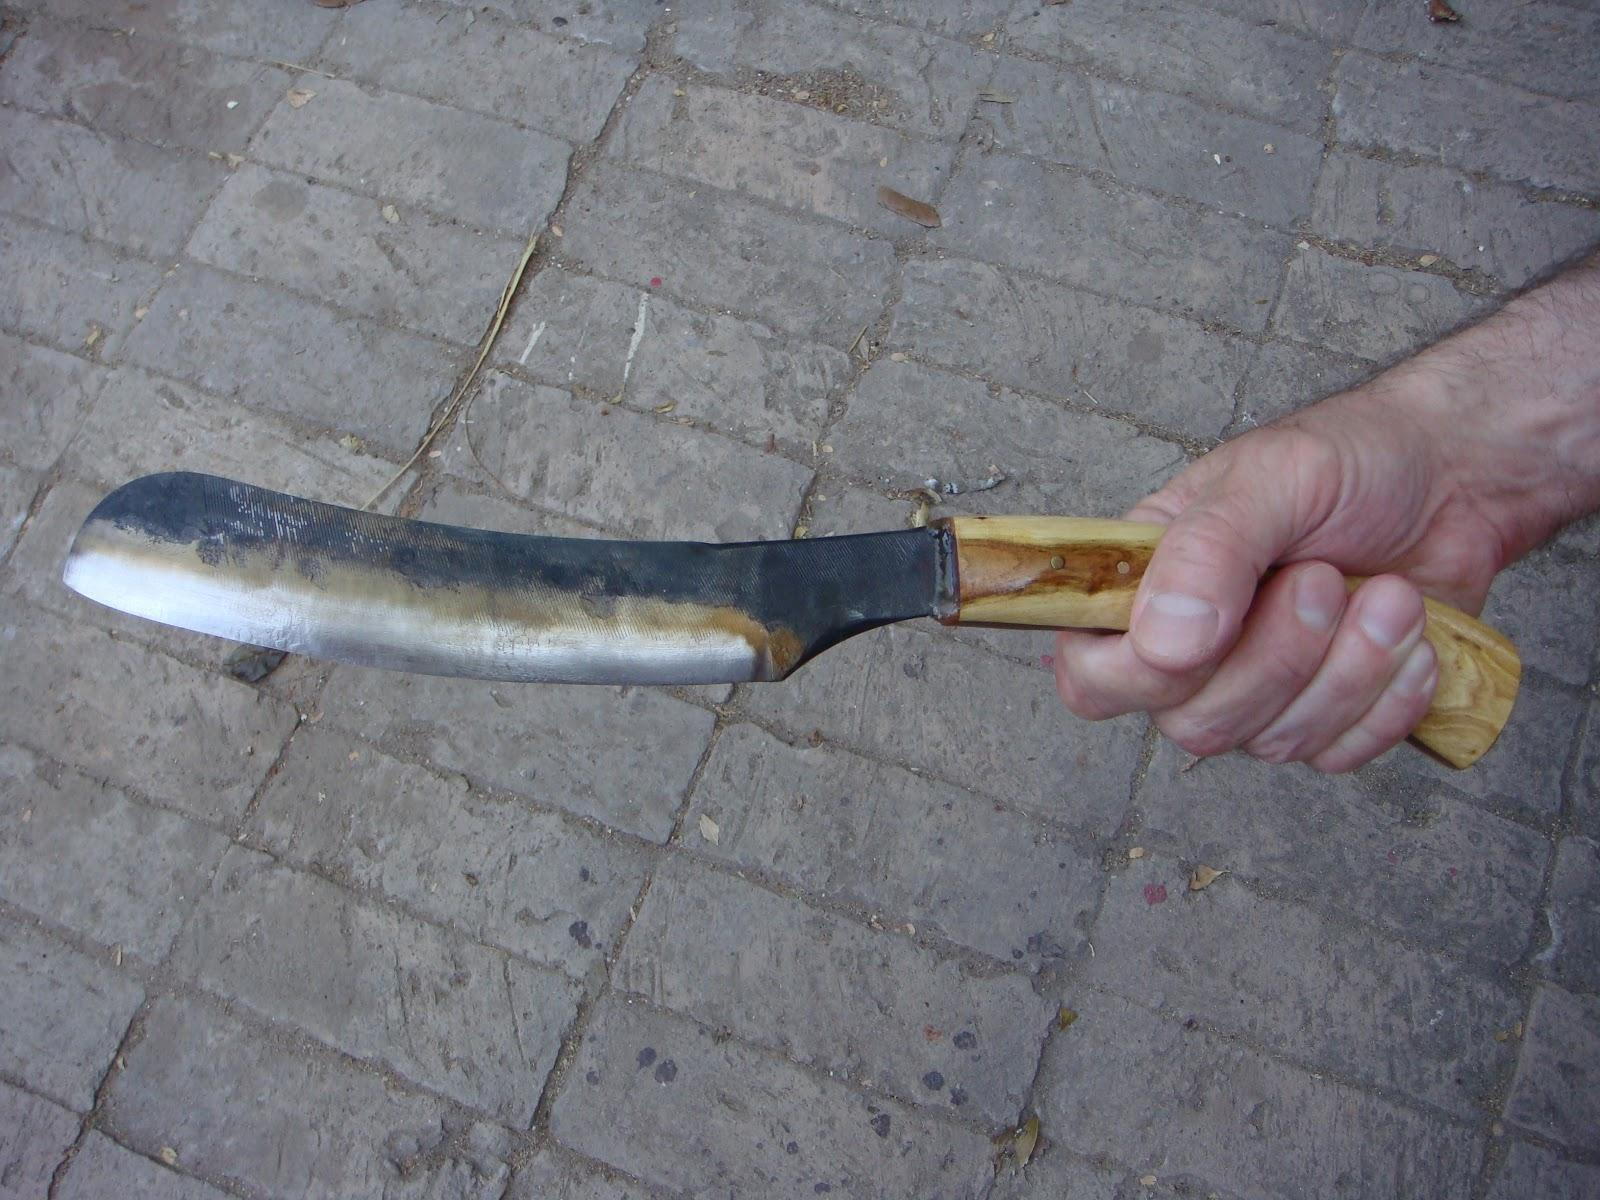facao: (66, 471, 1518, 778)
